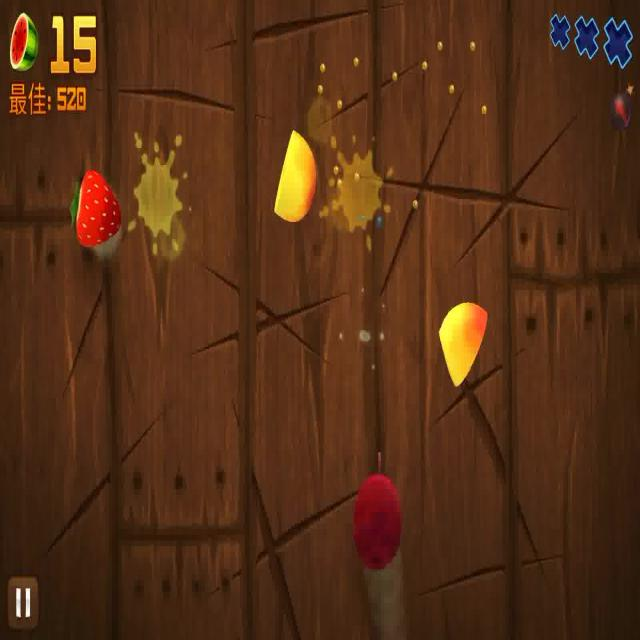fruit: (352, 476, 402, 571), (438, 302, 487, 390), (71, 169, 124, 248), (274, 127, 317, 220)
